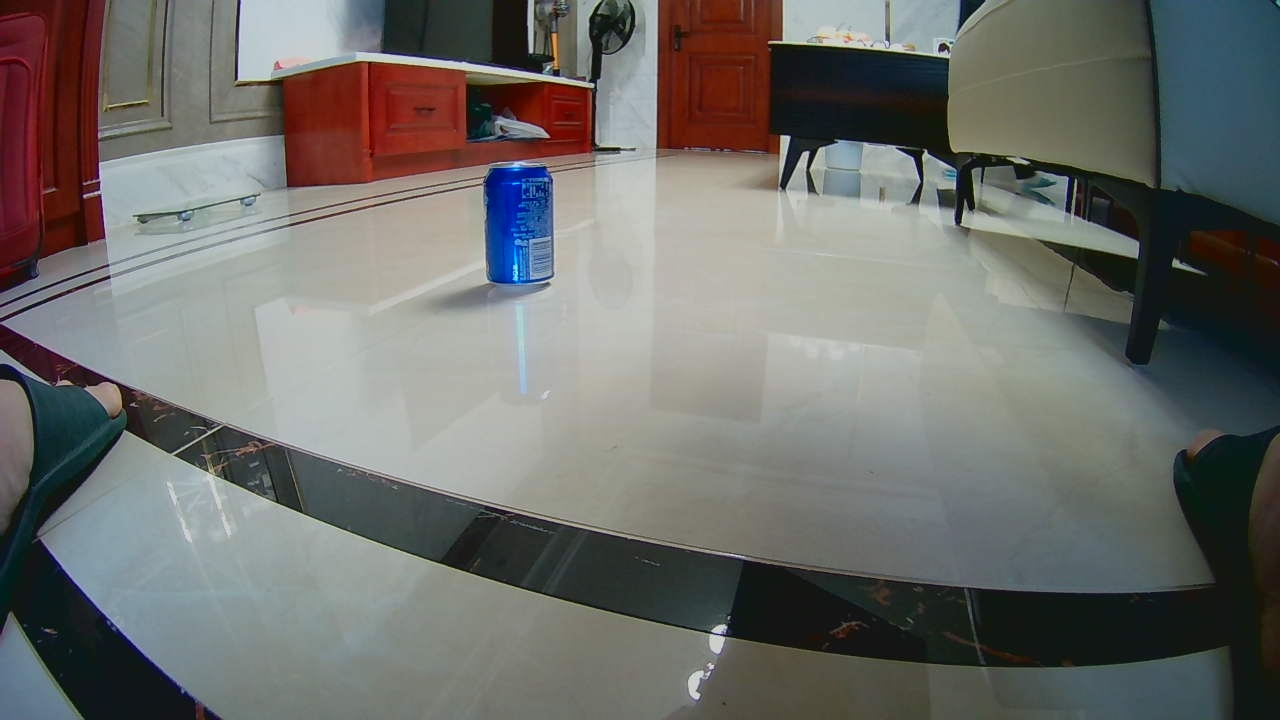pessi: (482, 165, 553, 290)
